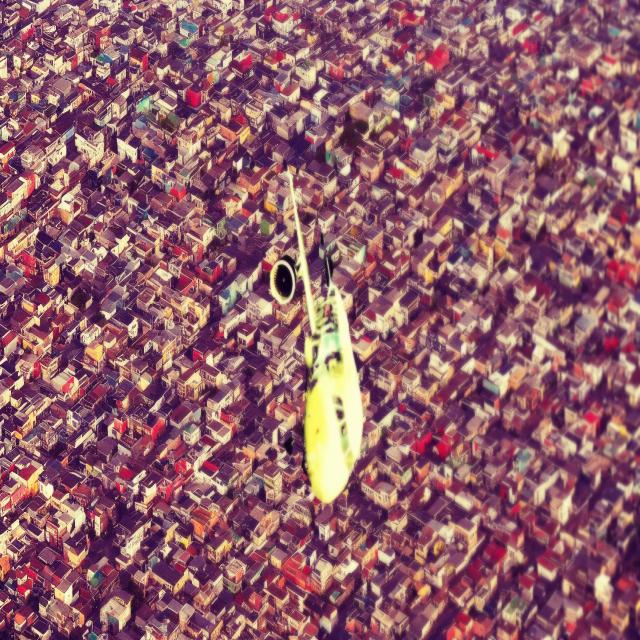airplane: (269, 165, 364, 504)
